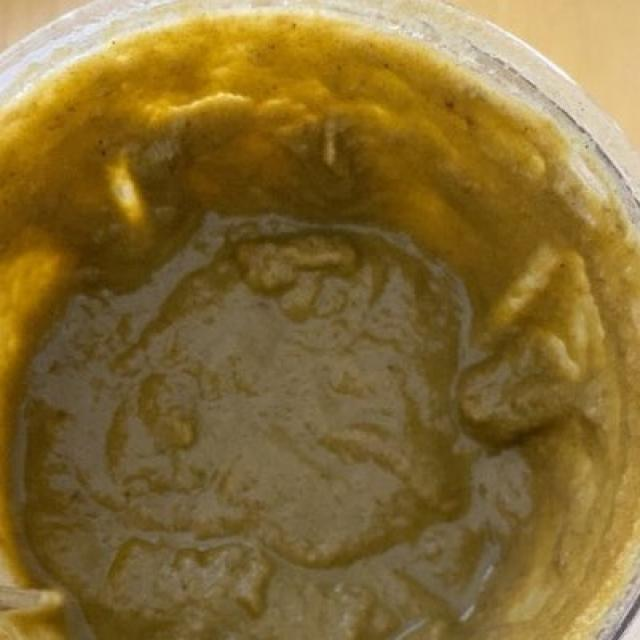compotes: (9, 15, 625, 630)
